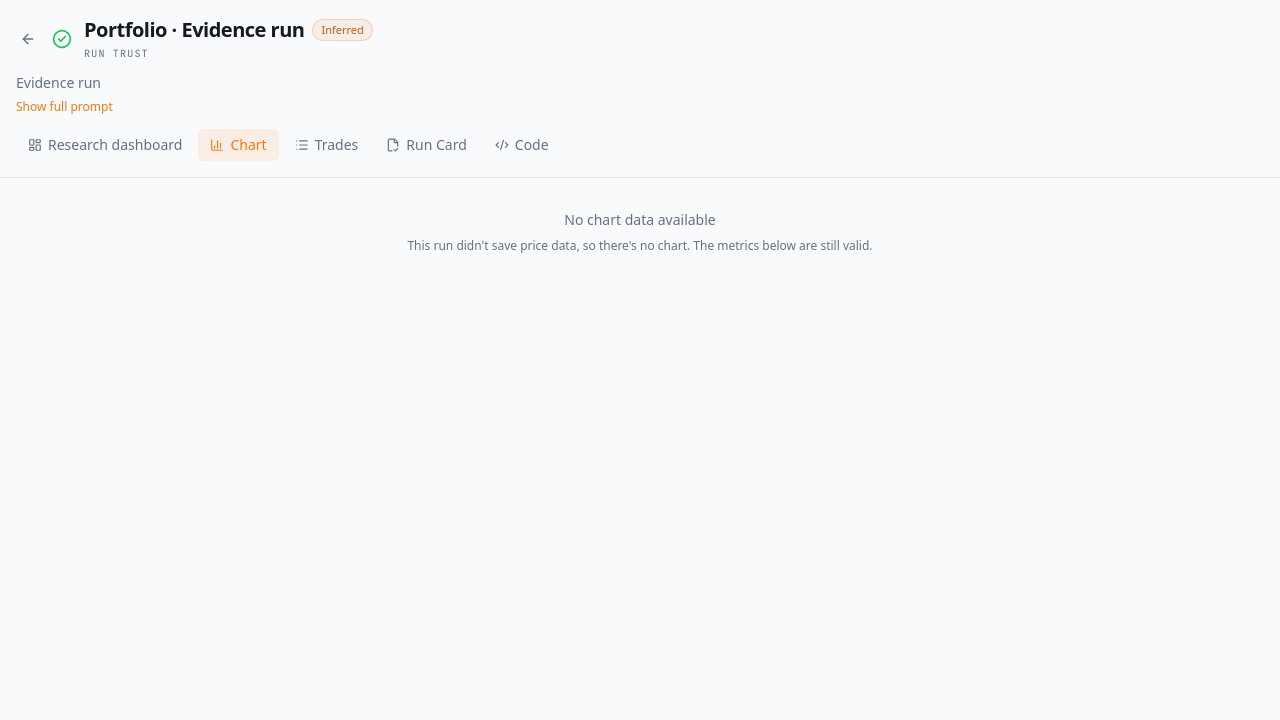
Scenario: RunDetail page › renders execution status, UTC times and complete metric evidence hashes
What coordinates should you click on to do the following:
click the tab "Run Card"
I would click on:
 (427, 145)
Its box is left=374, top=129, right=479, bottom=161.
(page scrolled)
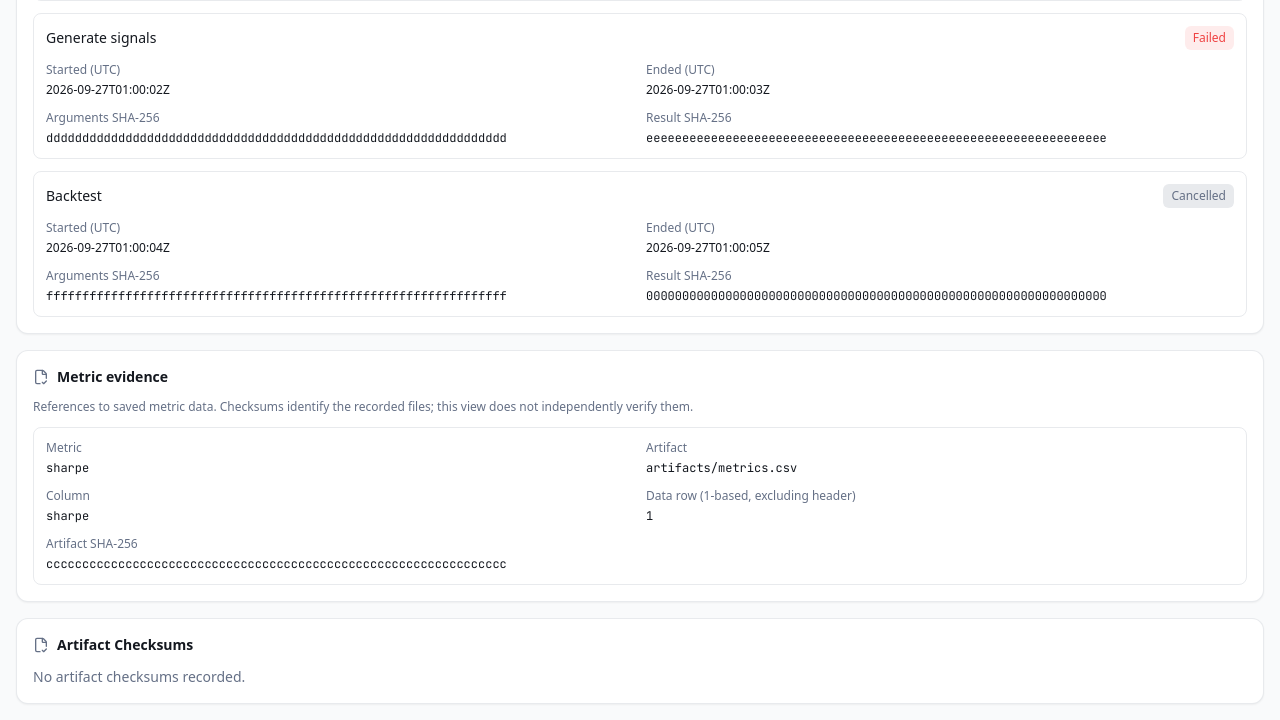
Result: the text "Generate signals" is shown at left=46, top=28, right=156, bottom=48
Result: the text "Backtest" is shown at left=46, top=186, right=102, bottom=206
Result: the text "Failed" is shown at left=1185, top=26, right=1234, bottom=50
